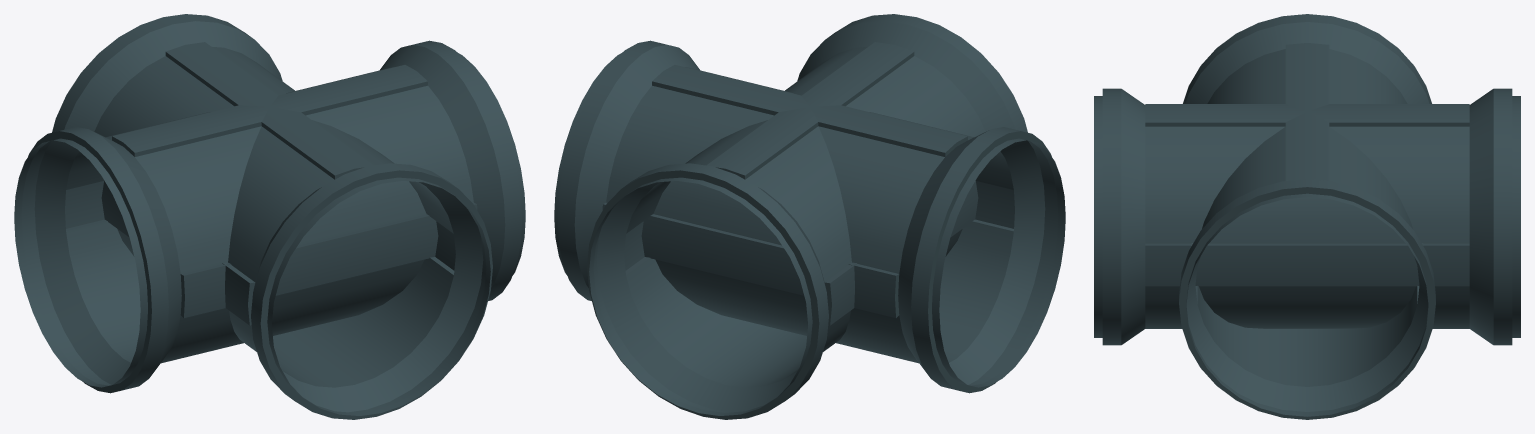
Rendered from tube_FourWay.fbx.
3 renders of one model, left to right at view 1: azimuth 30°, elevation 25°; view 2: azimuth 150°, elevation 25°; view 3: azimuth 270°, elevation 25°, orthographic. The views are drawn at different scales.
Parts seen in each view (by area): view 1: Tube_FourWay; view 2: Tube_FourWay; view 3: Tube_FourWay.
Boxes of the visible parts, x1,y1,x2,y2 form: Tube_FourWay: (14, 14, 525, 419); Tube_FourWay: (554, 14, 1065, 419); Tube_FourWay: (1094, 14, 1520, 419).
Bounding box in the file's own units: 399 × 241 × 400.
